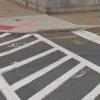Crosswalk: (2, 29, 98, 99)
